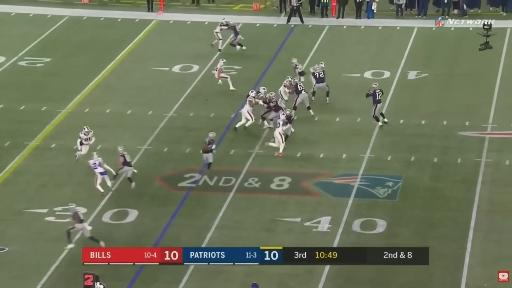Helmet: (68, 204, 77, 213), (83, 126, 90, 135), (371, 83, 378, 90), (249, 90, 256, 96), (293, 77, 299, 84), (260, 87, 267, 93), (286, 76, 292, 82), (209, 132, 215, 138), (269, 92, 275, 98), (285, 109, 291, 115), (93, 152, 98, 159), (83, 126, 90, 131), (221, 19, 227, 24), (372, 83, 378, 88), (320, 62, 325, 68), (118, 147, 123, 153), (220, 59, 226, 64), (230, 20, 235, 26), (314, 65, 319, 70), (292, 59, 297, 63)
Jersey: (89, 158, 107, 175), (367, 89, 383, 105), (279, 81, 291, 100), (79, 130, 93, 145), (268, 99, 282, 113), (203, 138, 215, 153), (120, 152, 132, 167), (276, 120, 289, 133), (312, 70, 325, 83), (294, 82, 306, 96), (72, 210, 84, 224), (245, 96, 256, 111), (228, 24, 239, 38), (294, 64, 305, 76), (215, 63, 223, 77), (215, 23, 227, 32), (286, 115, 293, 123), (280, 112, 286, 120)
Player: (66, 204, 105, 248), (89, 152, 115, 195), (235, 90, 261, 130), (113, 147, 136, 187), (366, 84, 387, 126), (266, 119, 289, 157), (292, 78, 314, 115), (261, 92, 282, 128), (311, 62, 329, 103), (213, 59, 235, 90), (75, 126, 95, 159), (228, 22, 246, 50), (202, 132, 215, 169), (212, 19, 227, 51), (280, 110, 294, 141), (282, 109, 294, 141), (279, 76, 292, 101), (292, 59, 306, 81), (258, 87, 267, 97)
